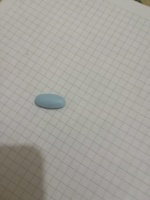Apranax: (34, 93, 67, 110)
